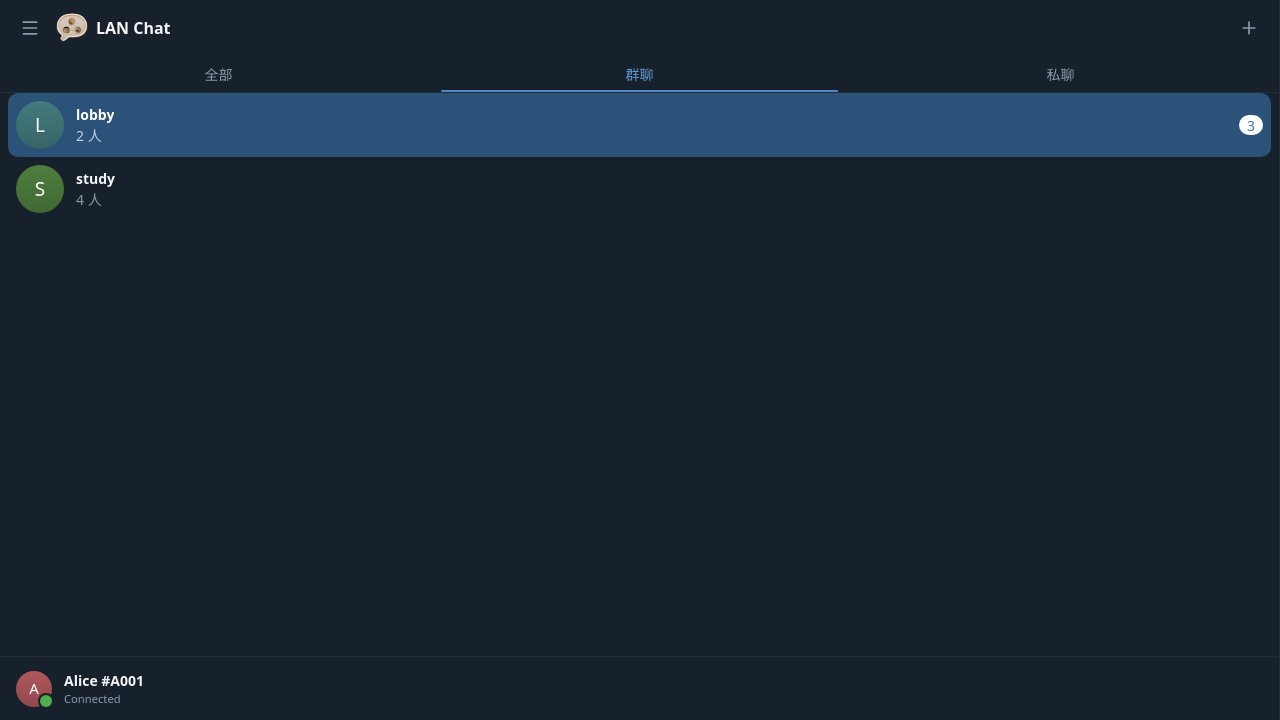
Scenario: WorkspacePage › alternates between the list and the chat in a narrow window
Click the button with aria-label "room-study" at (40, 189), box [8,157,1271,221]
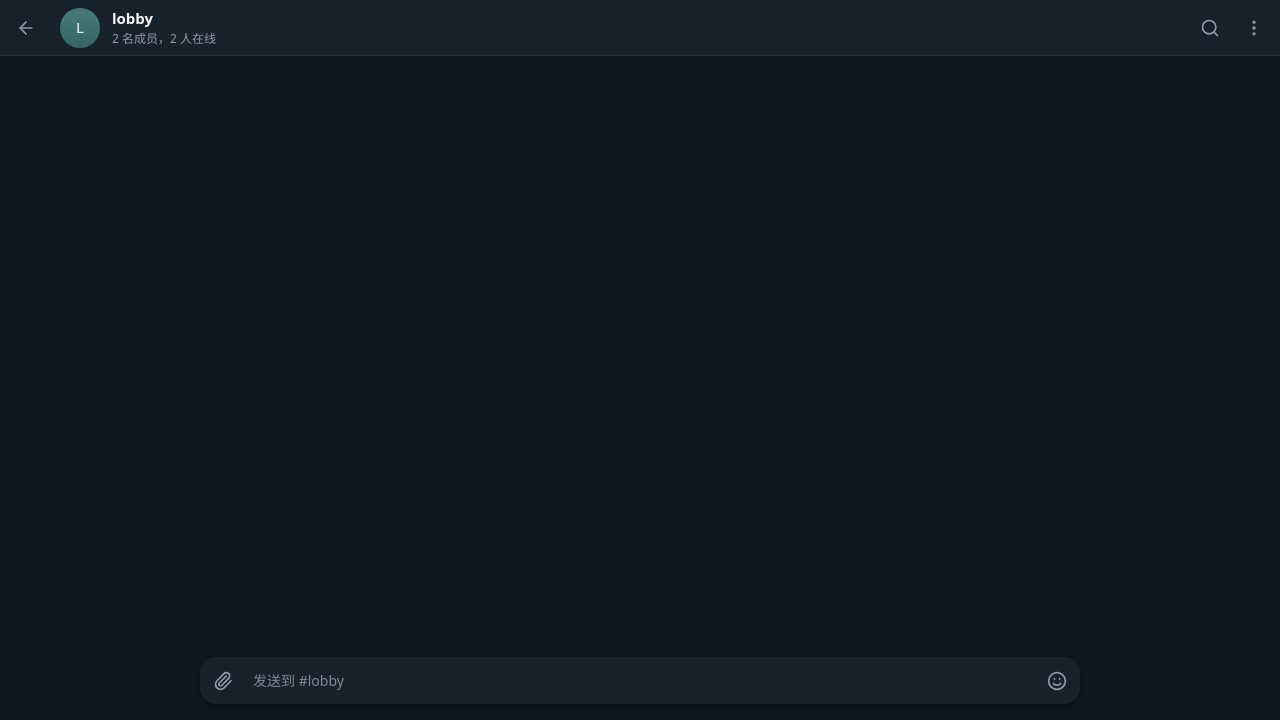
Check: the element with test id "conversation-sidebar" is gone
Click the button named "返回会话列表" at (26, 28), box [8,10,44,46]
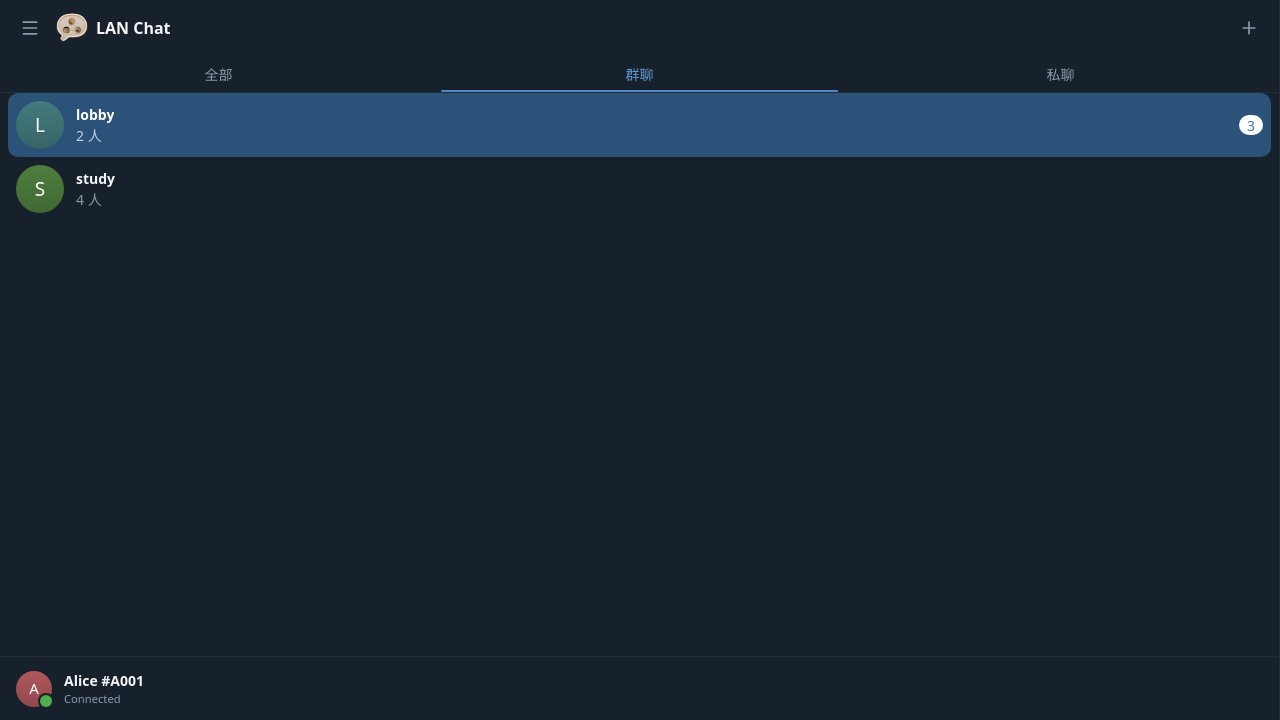
Check: the element with test id "conversation-sidebar" is shown
